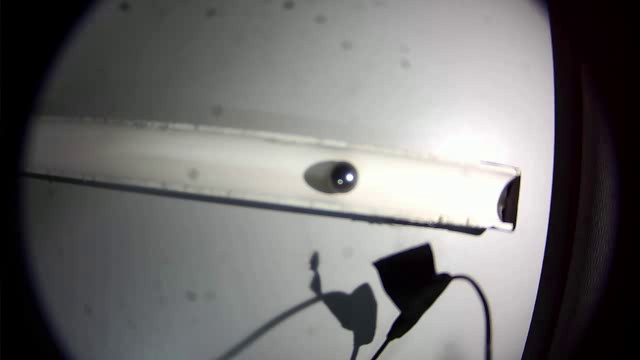gangzhu: (328, 161, 360, 193)
